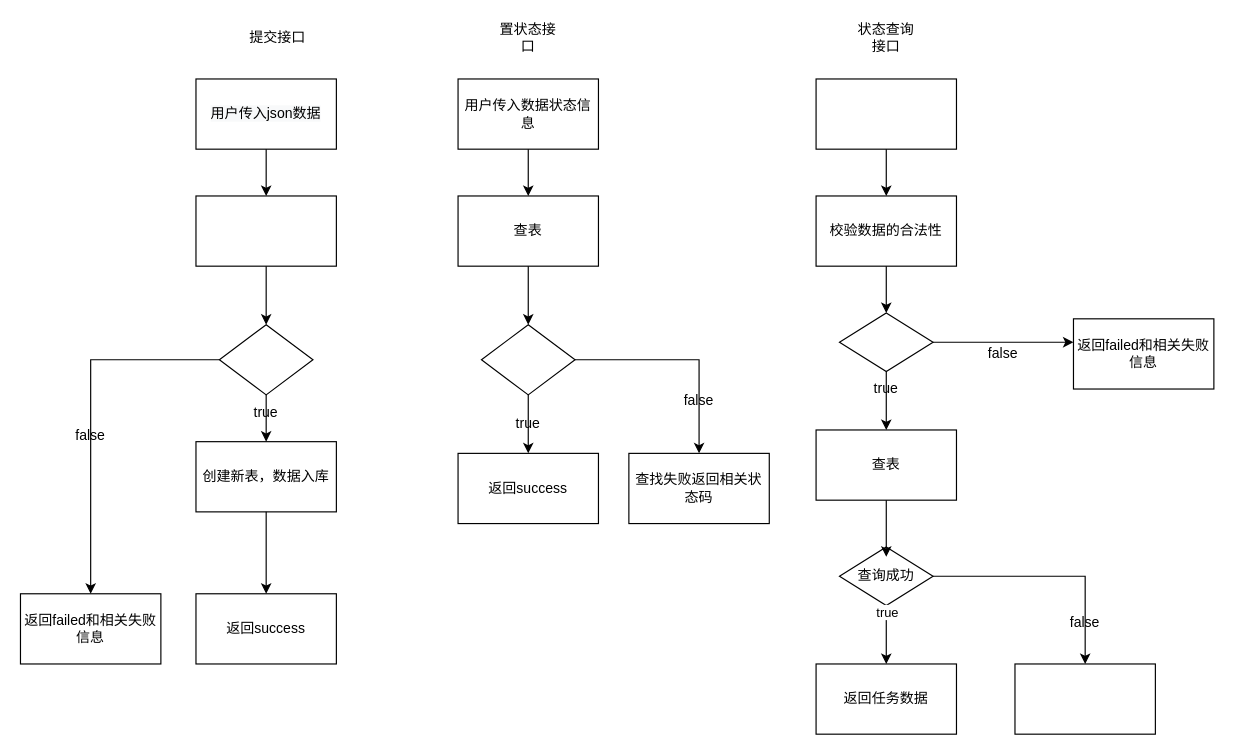
Some shapes in this 1234 by 755 pixel diagram are drawn without their labels. Here are the shapes that lost their labels. From the top down, the box of each, then its label:
(815, 78, 956, 149): 用户输入查询数据
(195, 195, 336, 266): 解析json数据，并进行数据校验
(218, 324, 313, 395): 成功
(480, 324, 575, 395): 查找成功
(838, 312, 933, 371): 合法
(1014, 663, 1155, 734): 没有查到相关数据
